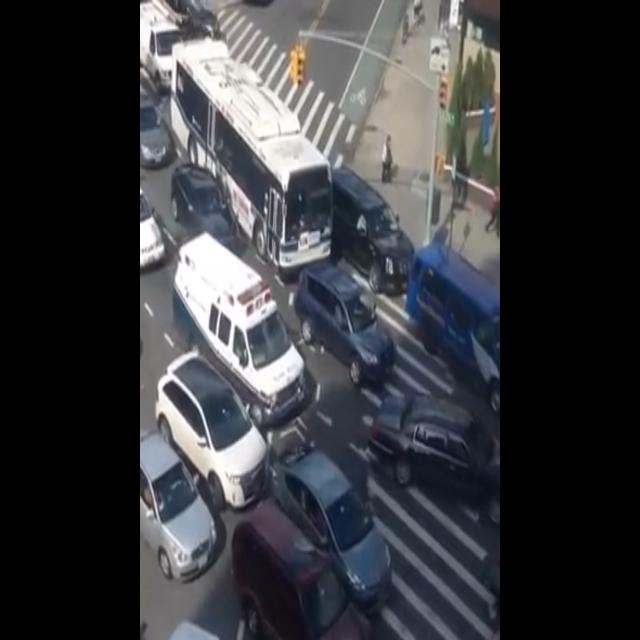Ambulance: (170, 208, 309, 432)
